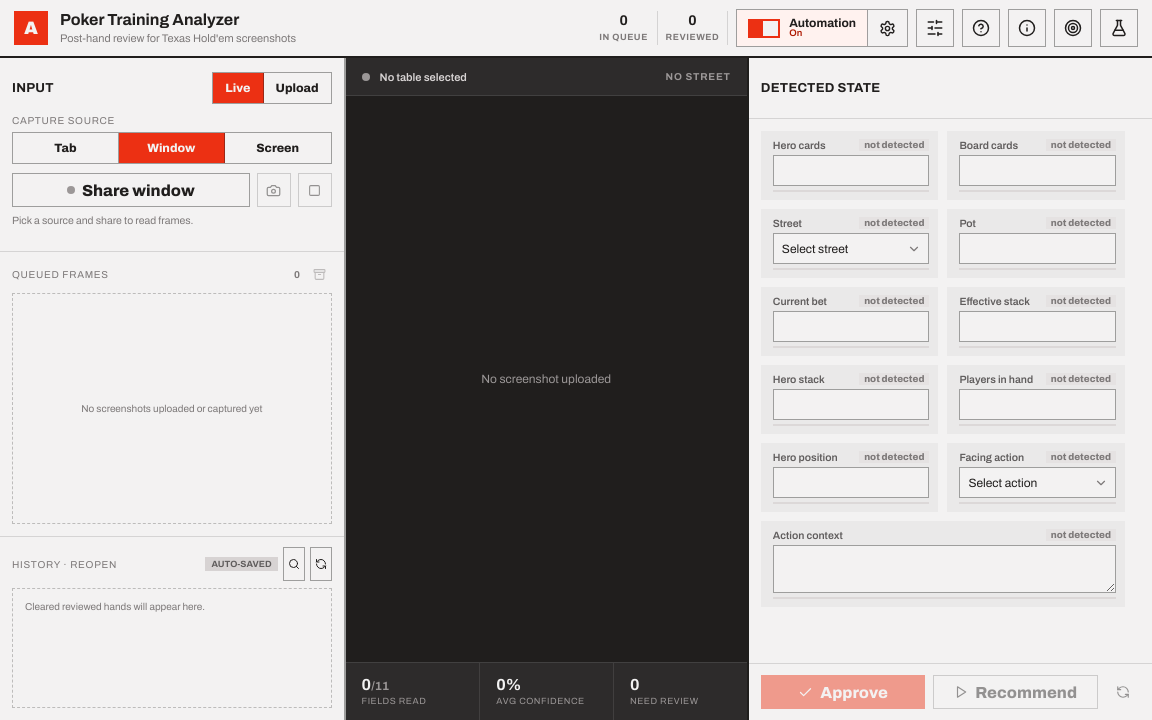
Test: Analyzer training progress › shows entirely unattributed legacy recommendation coverage
This screenshot has width=1152, height=720.
Click the button named "Training progress" at (1073, 28), box [1054,9,1092,47]
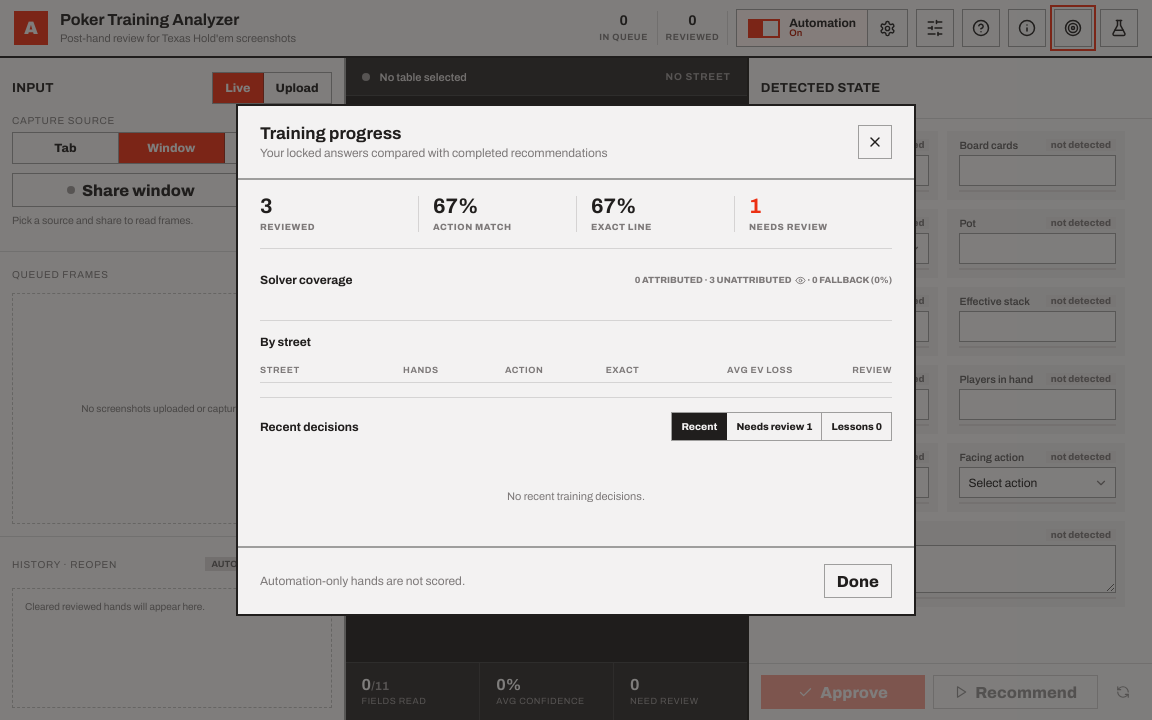
Check: the heading "Solver coverage" is shown, box [260,273,352,287]
Check: the button with aria-label "Show 3 unattributed hands" is enabled, box [709,263,806,297]
